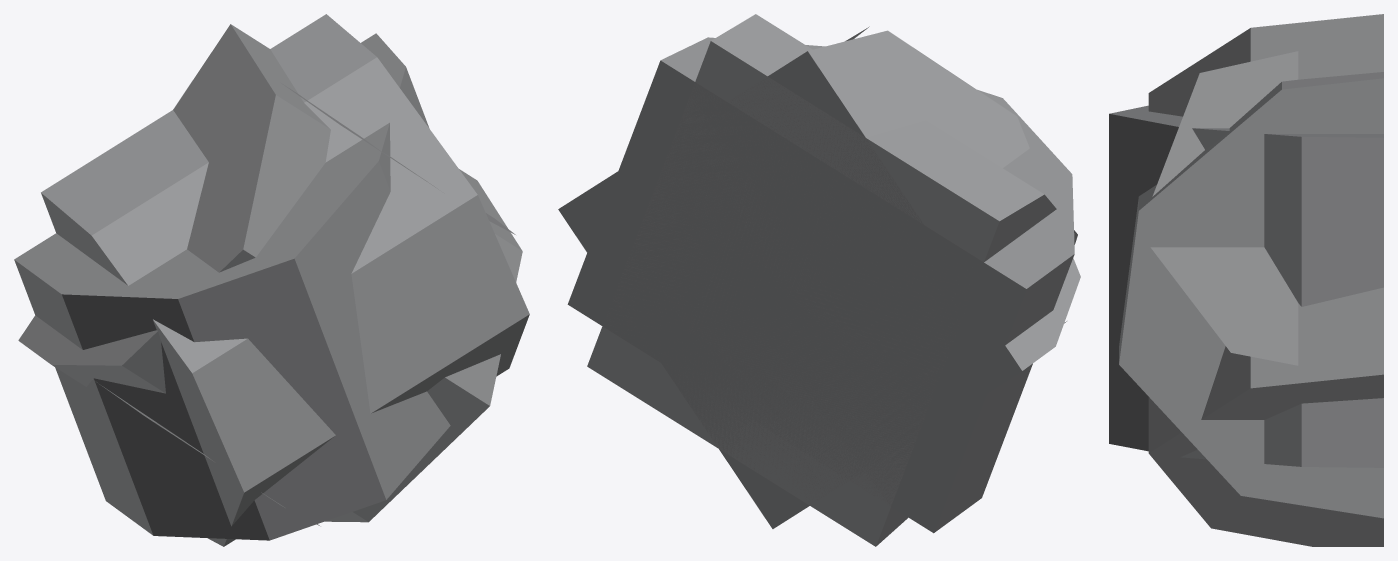
3 renders of one model, left to right at view 1: azimuth 30°, elevation 25°; view 2: azimuth 150°, elevation 25°; view 3: azimuth 270°, elevation 25°, orthographic. The views are drawn at different scales.
Bounding box in the file's own units: 0.404 × 0.4012 × 0.194.
